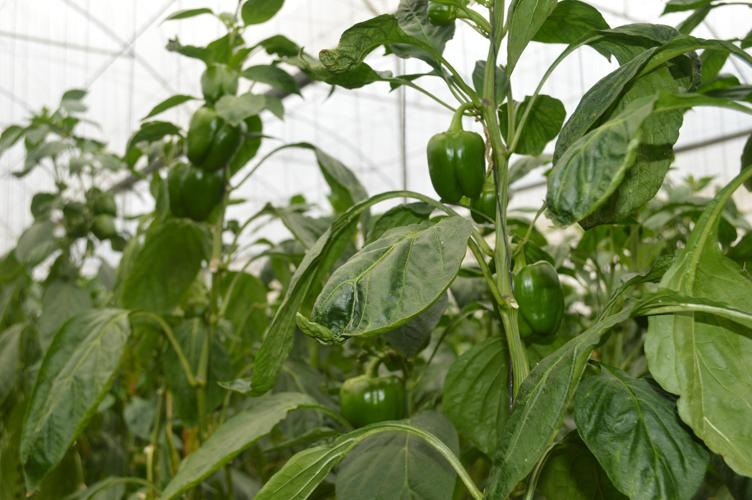BellPepper: (178, 100, 253, 192), (414, 126, 500, 205), (156, 164, 237, 230), (503, 264, 573, 335), (329, 367, 404, 421), (463, 185, 511, 242)
